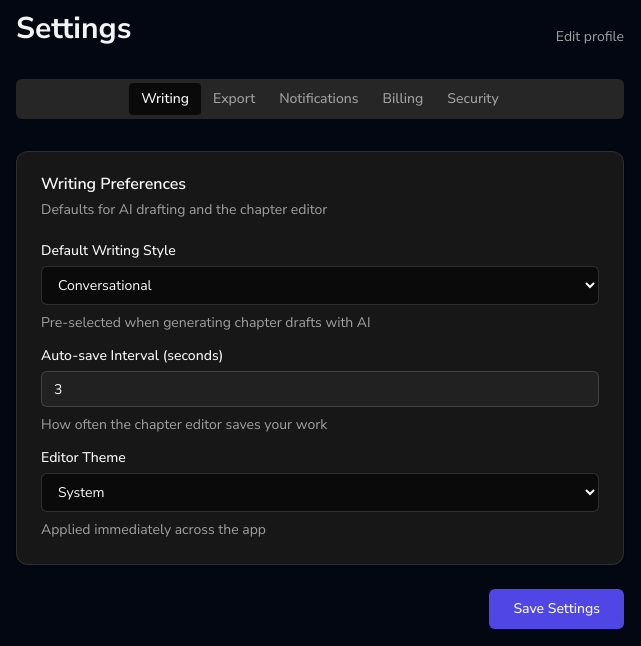
Scenario: SettingsPage billing tab › shows Manage billing for a lapsed user with a Stripe customer (issue #222)
Check: the button "Save Settings" is enabled, box x1=489 y1=589 x2=624 y2=629
Step 1. Click the tab "Billing" → coordinates (403, 99), box x1=370 y1=83 x2=435 y2=115
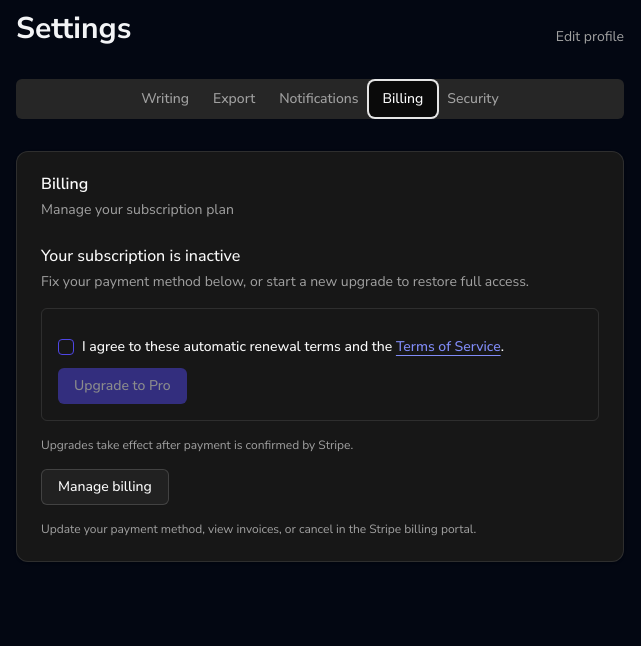
Check: the button "Manage billing" is shown, box x1=41 y1=469 x2=169 y2=505
